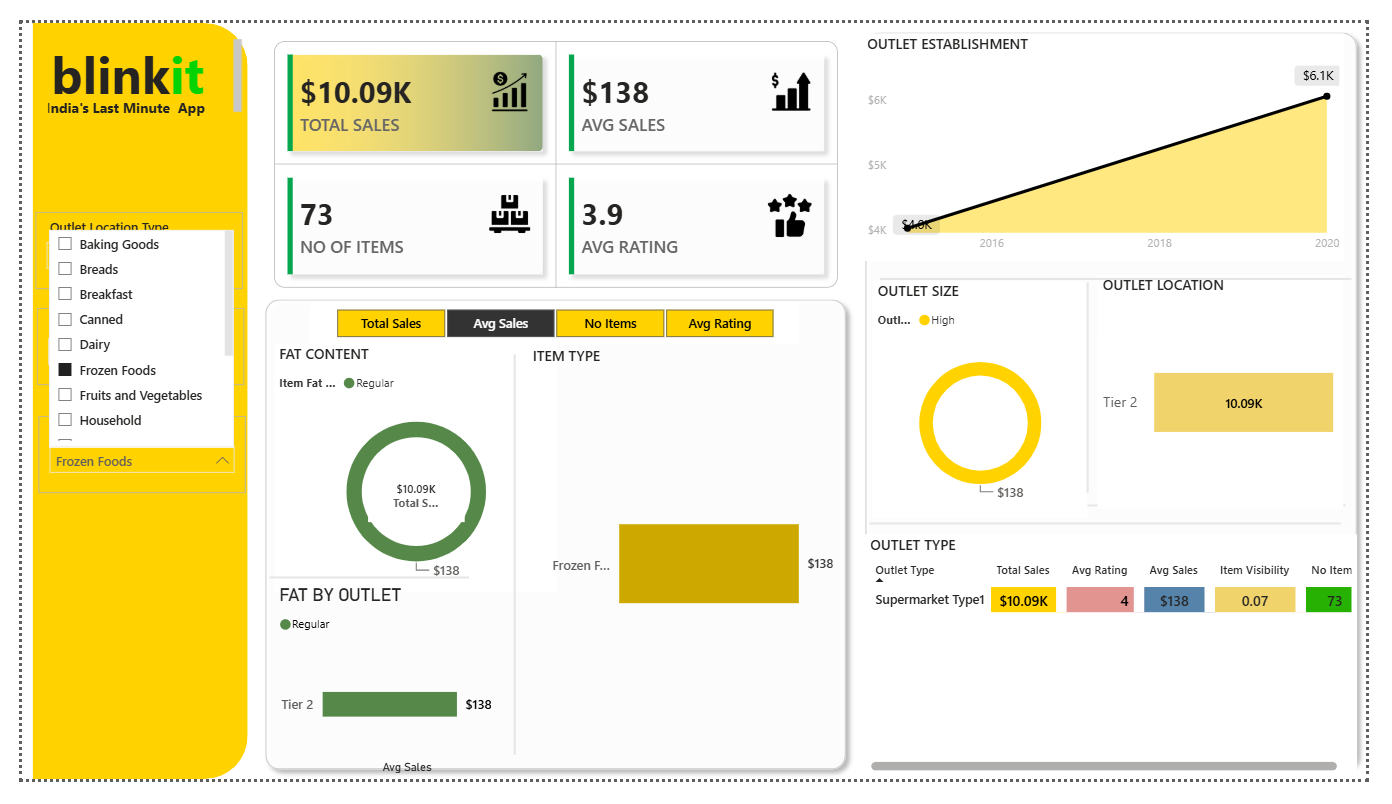

This screenshot's page, from the dashboard's own definition file:
{"tool":"powerbi","page":{"name":"Page 1","canvas":[1280,720],"ordinal":0},"visuals":[{"type":"shape","box":[10,0,205,720],"z":0},{"type":"textbox","box":[262.8,572.2,204.3,147.2],"z":1000},{"type":"textbox","box":[262.8,378.5,377,84.1],"z":2000},{"type":"textbox","box":[10.5,10.5,204.3,85.6],"z":3000},{"type":"textbox","box":[18,66.1,189.2,30],"z":4000},{"type":"cardVisual","fields":{"Data":["BlinkIT Grocery Data.Total Sales","BlinkIT Grocery Data.Avg Sales","BlinkIT Grocery Data.No Items","BlinkIT Grocery Data.Avg Rating"]},"box":[222.3,0,571.3,270.9],"z":5000},{"type":"shape","box":[222.3,253.8,570.7,465.6],"z":6000},{"type":"donutChart","title":"FAT CONTENT","fields":{"Y":["BlinkIT Grocery Data.Avg Sales"],"Category":["BlinkIT Grocery Data.Item Fat Content"]},"box":[240.3,306.4,270.3,235.8],"z":7000},{"type":"slicer","fields":{"Values":["Matrices.Matrices"]},"box":[274.8,265.8,465.6,40.5],"z":8000},{"type":"cardVisual","fields":{"Data":["BlinkIT Grocery Data.Total Sales"]},"box":[324.4,420.5,102.1,60.1],"z":9000},{"type":"clusteredBarChart","title":"FAT BY OUTLET","fields":{"Y":["BlinkIT Grocery Data.Avg Sales"],"Category":["BlinkIT Grocery Data.Outlet Location Type"],"Series":["BlinkIT Grocery Data.Item Fat Content"]},"box":[240.3,534.7,211.8,184.7],"z":10000},{"type":"shape","box":[235.6,521.3,190,13.3],"z":11000},{"type":"shape","box":[400.5,315.1,138.4,381.4],"z":12000},{"type":"barChart","title":"ITEM TYPE","fields":{"Y":["BlinkIT Grocery Data.Avg Sales"],"Category":["BlinkIT Grocery Data.Item Type"]},"box":[481.5,307.7,296,393.2],"z":13000},{"type":"shape","box":[793.7,0,485.9,718.6],"z":14000},{"type":"lineChart","title":"OUTLET ESTABLISHMENT","fields":{"Category":["BlinkIT Grocery Data.Outlet Establishment Year"],"Y":["BlinkIT Grocery Data.Total Sales"]},"box":[799.6,10.3,459.4,216.5],"z":15000},{"type":"shape","box":[811.3,453.5,449.1,13.2],"z":16000},{"type":"donutChart","title":"OUTLET SIZE","fields":{"Category":["BlinkIT Grocery Data.Outlet Size"],"Y":["BlinkIT Grocery Data.Avg Sales"]},"box":[809.9,245.9,204.7,225.3],"z":17000},{"type":"shape","box":[945.3,247.4,138.4,200.3],"z":18000},{"type":"funnel","title":"OUTLET LOCATION","fields":{"Y":["Sum(BlinkIT Grocery Data.Sales)"],"Category":["BlinkIT Grocery Data.Outlet Location Type"]},"box":[1024.8,240,234.1,222.3],"z":19000},{"type":"shape","box":[816.9,236.8,449.1,13.3],"z":20000},{"type":"shape","box":[806.9,469.7,449.1,13.2],"z":21000},{"type":"pivotTable","title":"OUTLET TYPE","fields":{"Rows":["BlinkIT Grocery Data.Outlet Type"],"Values":["BlinkIT Grocery Data.Total Sales","BlinkIT Grocery Data.Avg Rating","BlinkIT Grocery Data.Avg Sales","Avg(BlinkIT Grocery Data.Item Visibility)","BlinkIT Grocery Data.No Items"]},"box":[806.9,488.9,449.1,229.7],"z":22000},{"type":"slicer","fields":{"Values":["BlinkIT Grocery Data.Outlet Location Type"]},"box":[13.3,179.6,197.3,73.6],"z":23000},{"type":"slicer","fields":{"Values":["BlinkIT Grocery Data.Outlet Size"]},"box":[14.7,270.9,197.3,73.6],"z":24000},{"type":"slicer","fields":{"Values":["BlinkIT Grocery Data.Item Type"]},"box":[16.2,374,197.3,73.6],"z":25000}]}

Visuals, with their boxes in screenshot pixels (x1, y1, x2, y2), scaled from the page's 1280x720 canvas onto the 1392x804 screenshot:
shape: 11,0,234,803
textbox: 286,639,508,803
textbox: 286,423,696,517
textbox: 11,12,234,107
textbox: 20,74,225,107
cardVisual - BlinkIT Grocery Data.Total Sales x BlinkIT Grocery Data.Avg Sales: 242,0,863,303
shape: 242,283,862,803
"FAT CONTENT" donutChart: 261,342,555,605
slicer - Matrices.Matrices: 299,297,805,342
cardVisual - BlinkIT Grocery Data.Total Sales: 353,470,464,537
"FAT BY OUTLET" clusteredBarChart: 261,597,492,803
shape: 256,582,463,597
shape: 436,352,586,778
"ITEM TYPE" barChart: 524,344,846,783
shape: 863,0,1391,802
"OUTLET ESTABLISHMENT" lineChart: 870,12,1369,253
shape: 882,506,1371,521
"OUTLET SIZE" donutChart: 881,275,1103,526
shape: 1028,276,1179,500
"OUTLET LOCATION" funnel: 1114,268,1369,516
shape: 888,264,1377,279
shape: 878,524,1366,539
"OUTLET TYPE" pivotTable: 878,546,1366,802
slicer - BlinkIT Grocery Data.Outlet Location Type: 14,201,229,283
slicer - BlinkIT Grocery Data.Outlet Size: 16,303,231,385
slicer - BlinkIT Grocery Data.Item Type: 18,418,232,500
